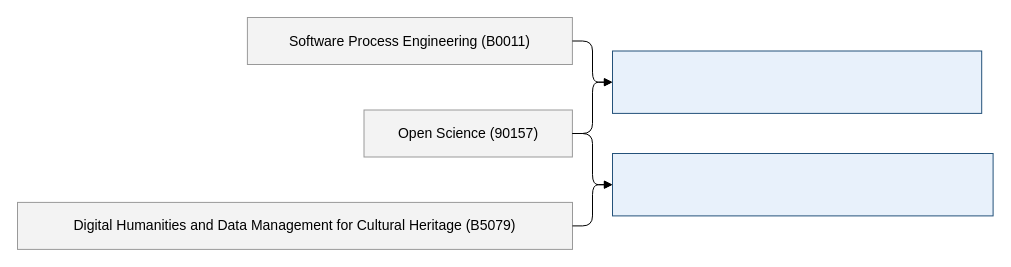
The diagram is 1011 pixels wide and 267 high, and some of its shapes have lost their labels. Each missing label, with the centre of its shape:
"Open Research Practices and Communication 3 ECTS" goes at (x=797, y=81).
"Open Science Foundations and FAIR Open Data 2 ECTS" goes at (x=802, y=184).
